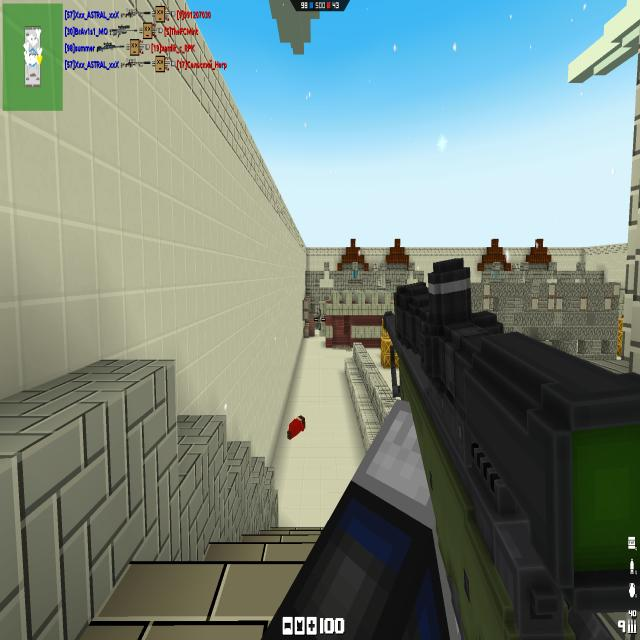player: (287, 415, 305, 440)
